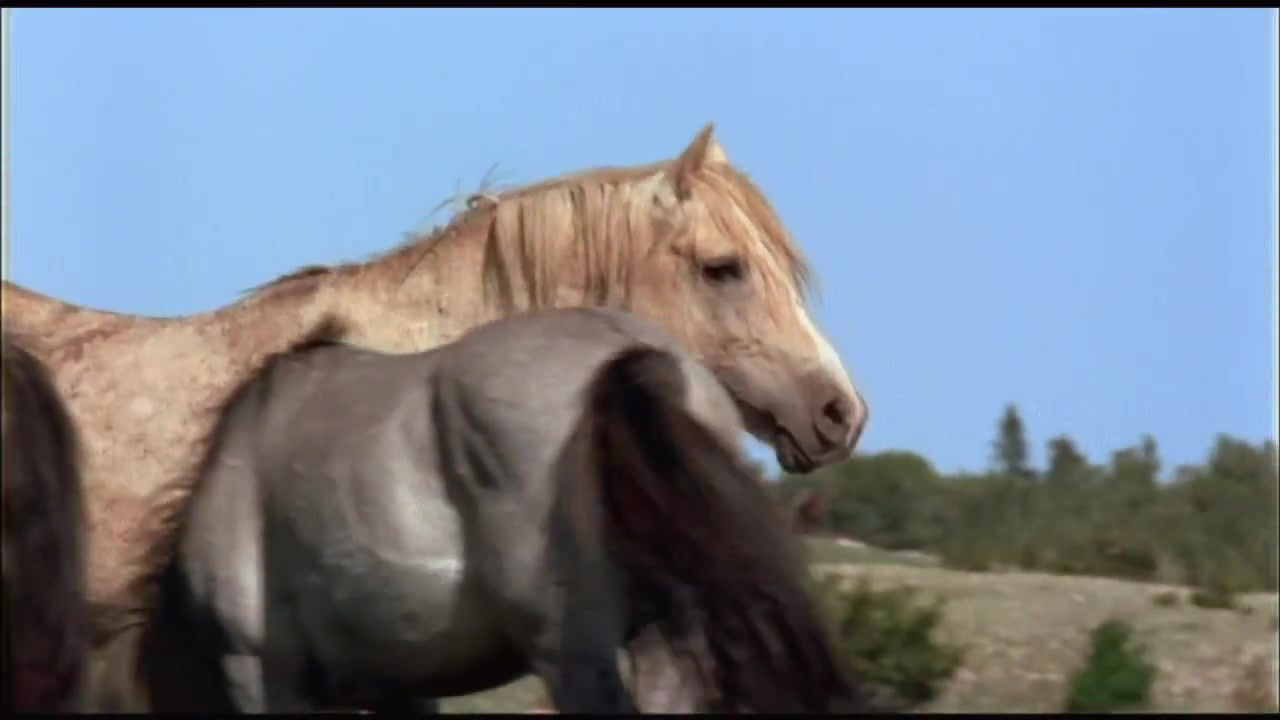horse: (1, 121, 870, 717)
